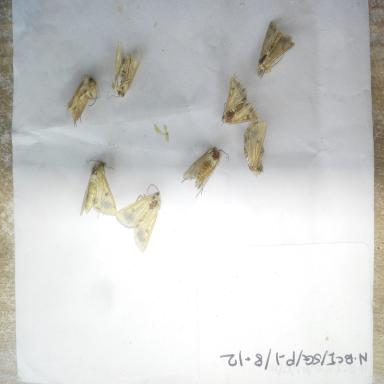abw: (111, 180, 166, 255), (180, 140, 234, 202), (76, 154, 122, 225), (101, 36, 146, 108), (253, 11, 298, 81), (62, 66, 105, 133), (217, 74, 263, 130), (239, 114, 271, 180)
